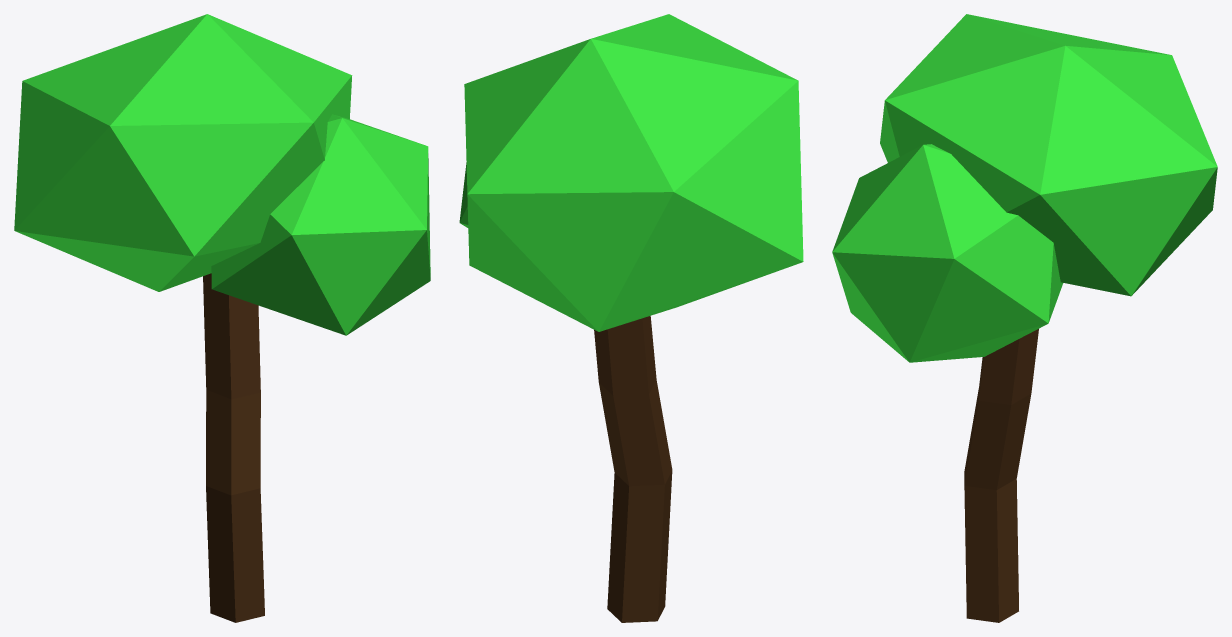
The model's file is Tree.fbx.
3 renders of one model, left to right at view 1: azimuth 30°, elevation 25°; view 2: azimuth 150°, elevation 25°; view 3: azimuth 270°, elevation 25°, orthographic. The views are drawn at different scales.
Parts seen in each view (by area): view 1: Icosphere, Cylinder; view 2: Icosphere, Cylinder; view 3: Icosphere, Cylinder.
Part boxes in pixels (x1,y1,x2,y2): Icosphere: (14,14,430,335); Cylinder: (203,273,264,622); Icosphere: (459,14,803,331); Cylinder: (594,316,672,622); Icosphere: (832,14,1217,362); Cylinder: (964,329,1038,622).
Size of the model in its own units: 1216 by 1819 by 1118.
